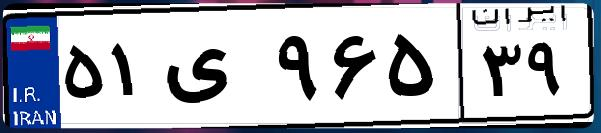1: (110, 28, 158, 98)
3: (475, 38, 525, 113)
5: (385, 28, 445, 110), (57, 26, 110, 100)
6: (330, 28, 385, 110)
9: (270, 28, 330, 110), (525, 38, 570, 115)
ی: (158, 20, 270, 120)
